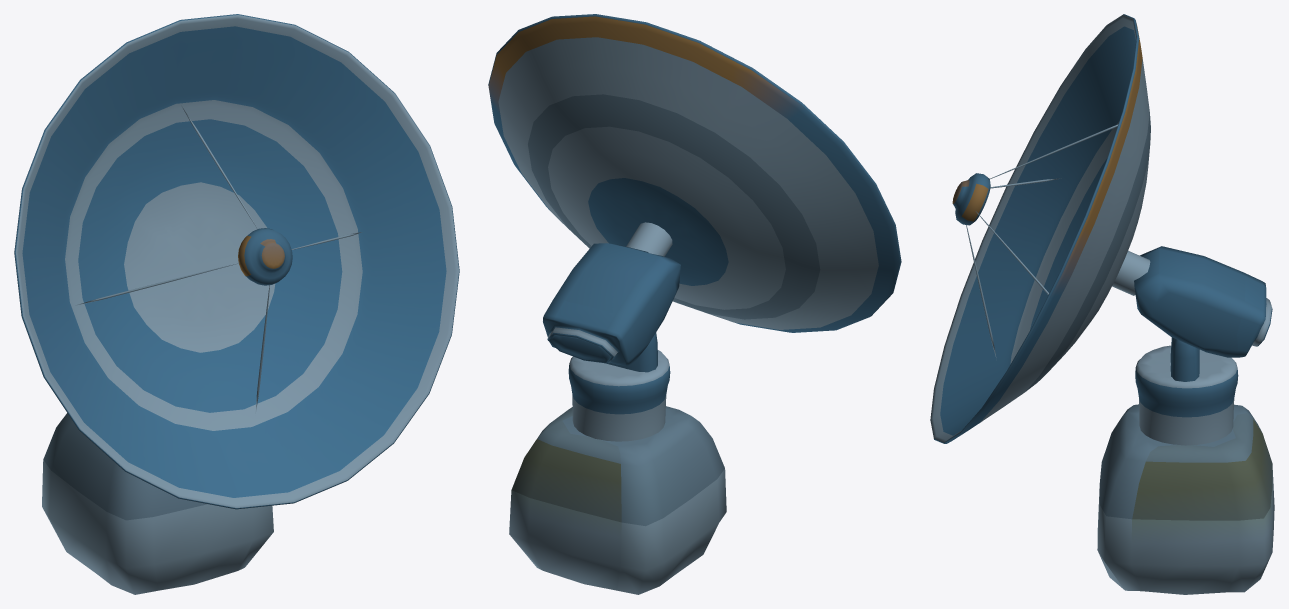
Rendered from Satellite.fbx.
3 renders of one model, left to right at view 1: azimuth 30°, elevation 25°; view 2: azimuth 150°, elevation 25°; view 3: azimuth 270°, elevation 25°, orthographic. The views are drawn at different scales.
Visible parts, largest first — view 1: polySurface5, polySurface5.001; view 2: polySurface5, polySurface5.001; view 3: polySurface5, polySurface5.001.
Part boxes in pixels (x1,y1,x2,y2): polySurface5: (14,14,459,509); polySurface5.001: (42,413,273,594); polySurface5: (488,14,901,372); polySurface5.001: (509,350,726,594); polySurface5: (930,14,1272,443); polySurface5.001: (1097,345,1274,594).
Bounding box in the file's own units: 532 × 679 × 389.
